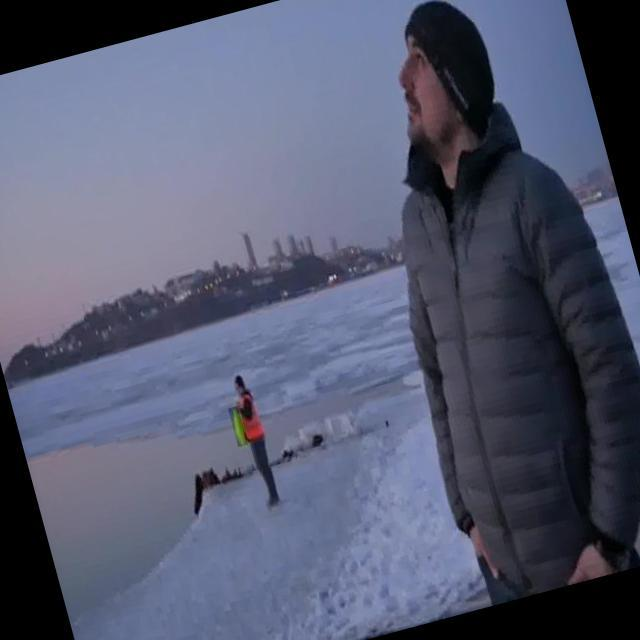Person: (378, 0, 640, 619), (213, 360, 293, 519)
Safety Boot: (265, 493, 285, 512)
Safety Vest: (233, 391, 265, 444)
bare-arms: (459, 523, 513, 585), (556, 537, 621, 585)
no-helmet: (396, 2, 505, 130), (232, 374, 245, 384)
no-vest: (391, 102, 640, 592)
